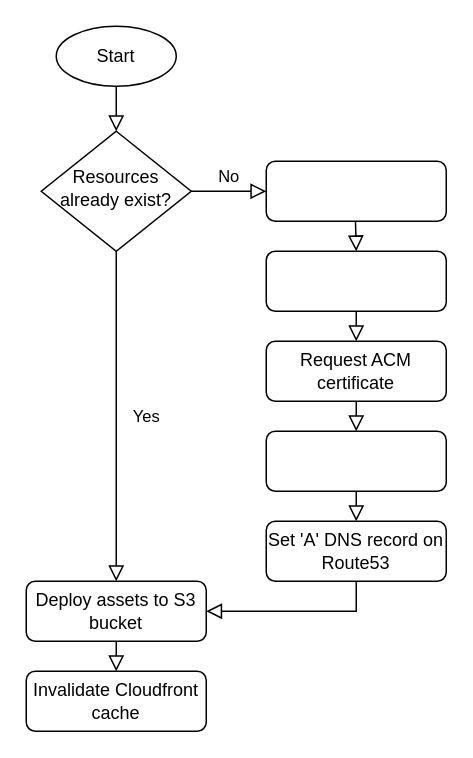
Image size: 473x758. Some labels were removed from this diagram. Each missing label, with the centre of its shape:
"Create Cloudformation stack" goes at pixel 355 190.
"Create CloudFront distribution" goes at pixel 355 460.
"Create S3 bucket" goes at pixel 355 280.
